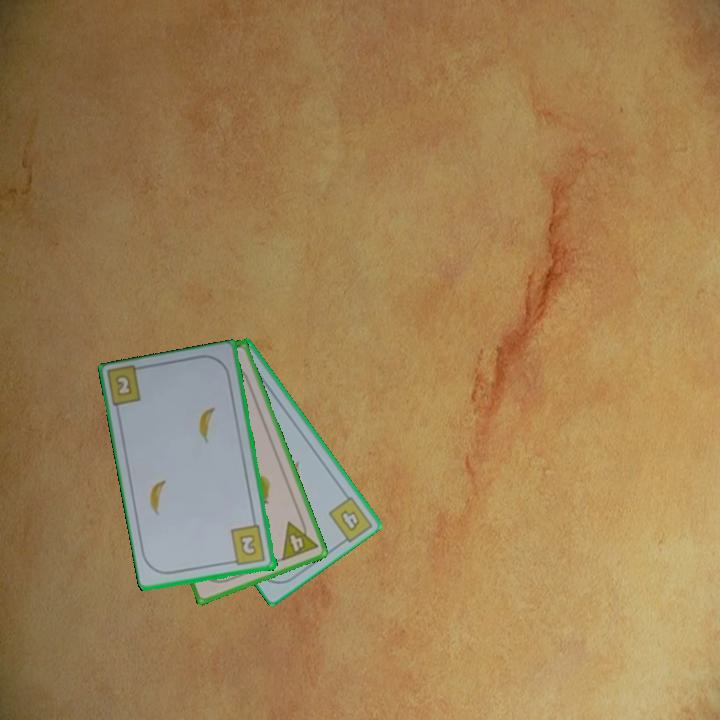2b: (226, 522, 268, 568), (113, 373, 135, 399)
4b: (336, 506, 363, 534)
4p: (278, 514, 321, 564)
